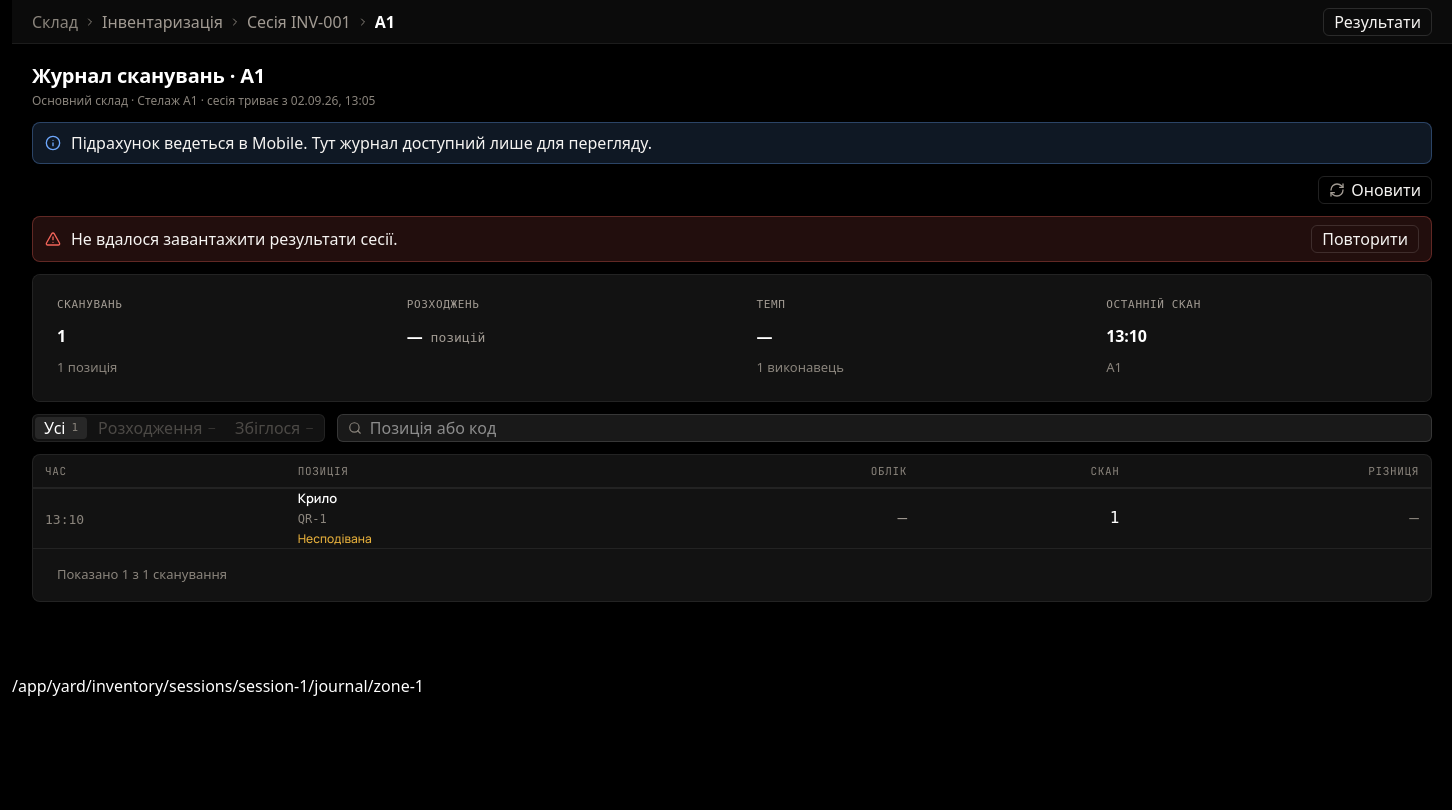
Test: keeps raw journal scans visible when comparison results fail to load
Check: the text "Не вдалося завантажити результати сесії." is shown, box [71,228,398,250]
Check: the text "Крило" is shown, box [298,488,337,506]
Click the button "Повторити". click: [1365, 239]
box: [1311,225,1419,253]
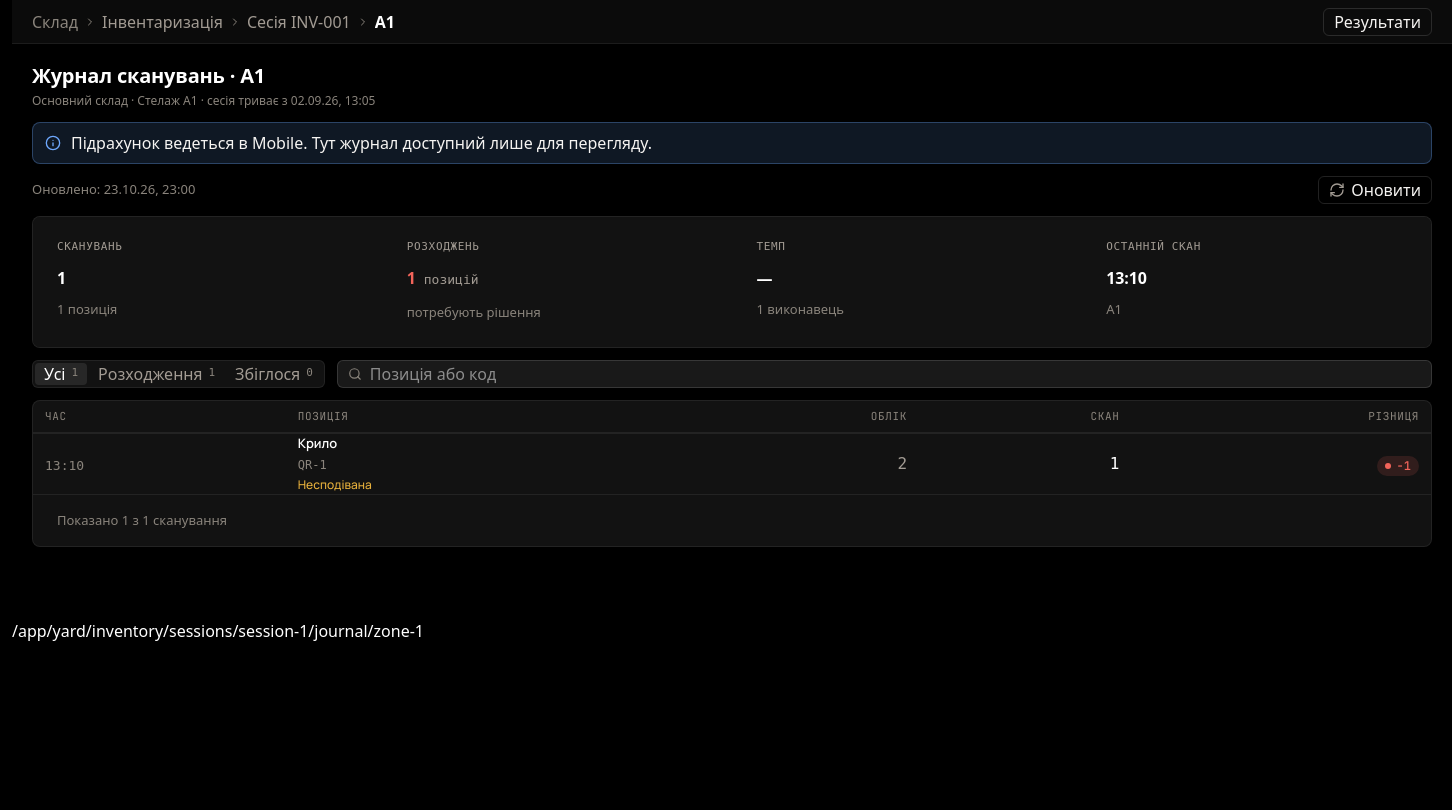
Check: the radio button labelled "Розходження 1" is enabled, box [89,362,224,384]
Check: the text "Не вдалося завантажити результати сесії." is gone
